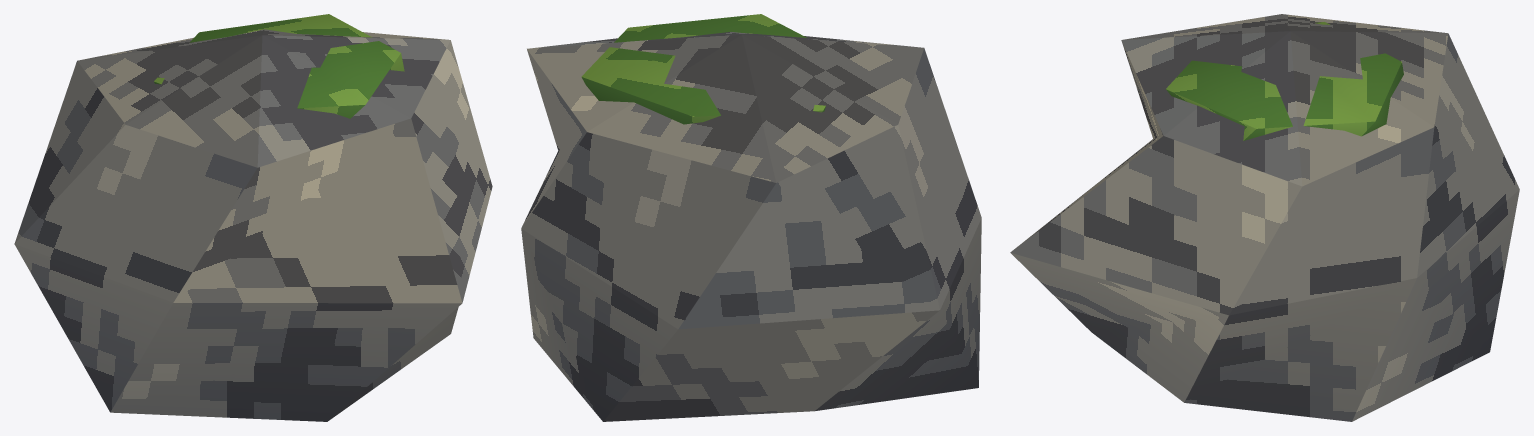
File: mnat.rock.glb
3 views of the same model, side by side, from view 1: azimuth 30°, elevation 25°; view 2: azimuth 150°, elevation 25°; view 3: azimuth 270°, elevation 25° (orthographic). The views are drawn at different scales.
Parts seen in each view (by area): view 1: kit_rock, kit_moss; view 2: kit_rock, kit_moss; view 3: kit_rock, kit_moss.
Part boxes in pixels (<box>): kit_rock: <box>14,29,492,421</box>; kit_moss: <box>154,14,404,118</box>; kit_rock: <box>521,31,981,421</box>; kit_moss: <box>581,14,825,124</box>; kit_rock: <box>1010,14,1519,421</box>; kit_moss: <box>1166,22,1403,140</box>.
Bounding box in the file's own units: 1.37 × 1.1 × 1.41.
2 materials, 2 textured.
